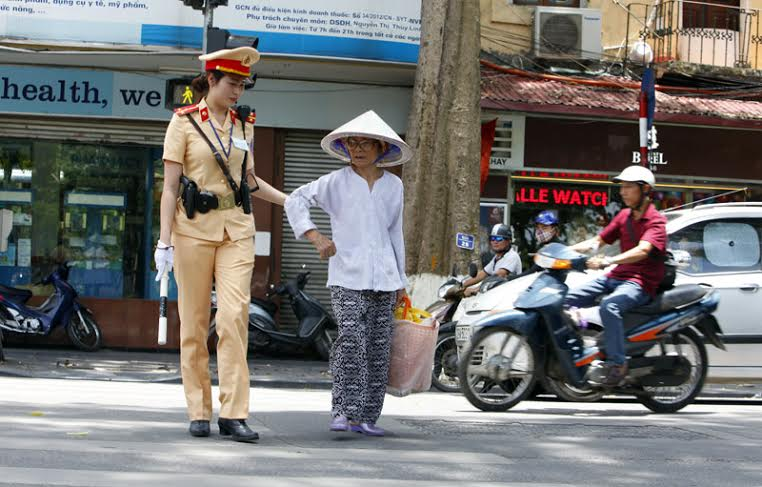police: (142, 39, 303, 454)
